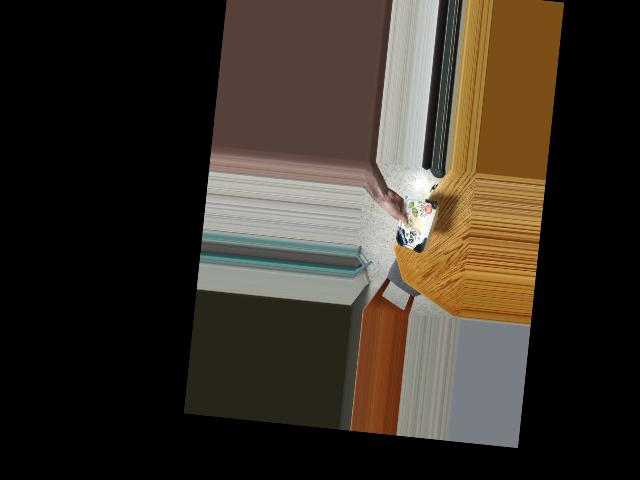cheese: (390, 204, 437, 247)
